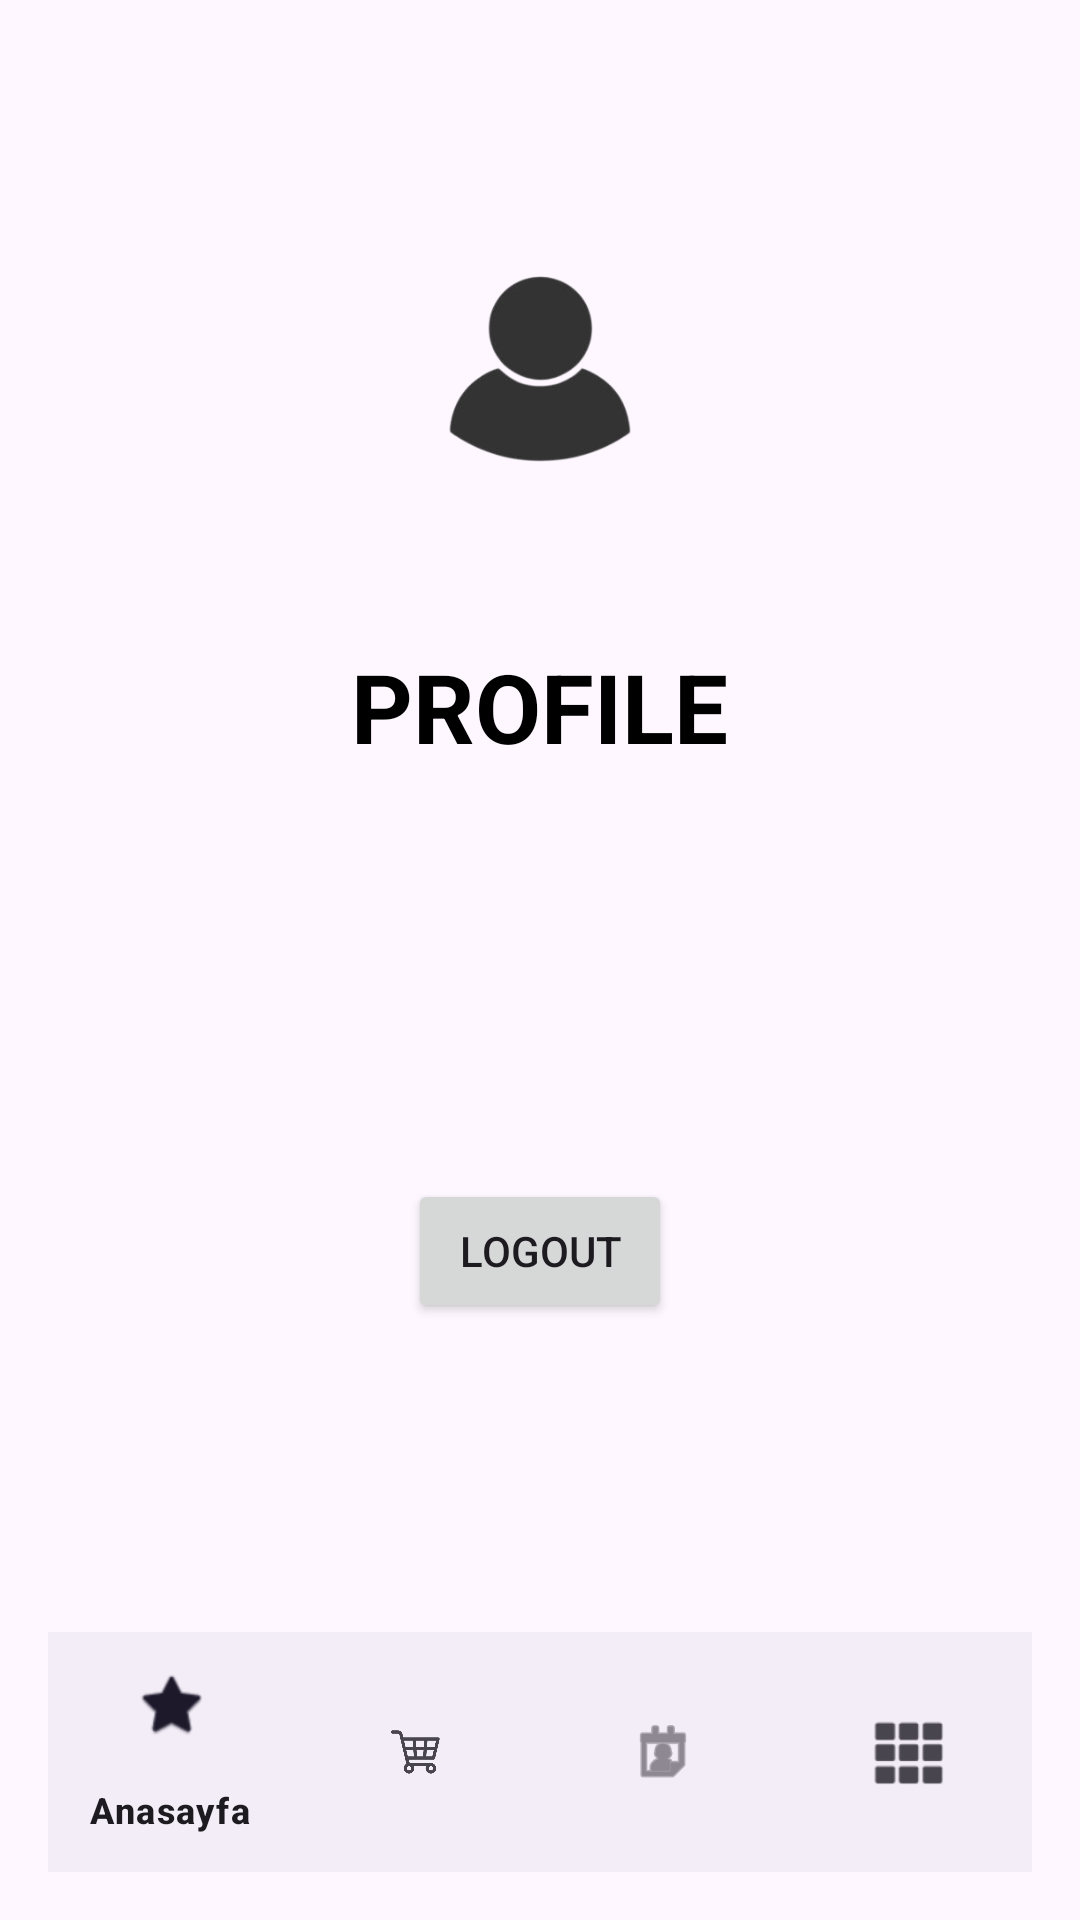

Named icons in this screenshot (1080x1920) and their bounding boxes, (x1=x1, y1=y1, x2=x2, y2=y2):
user: (x1=449, y1=276, x2=631, y2=461)
